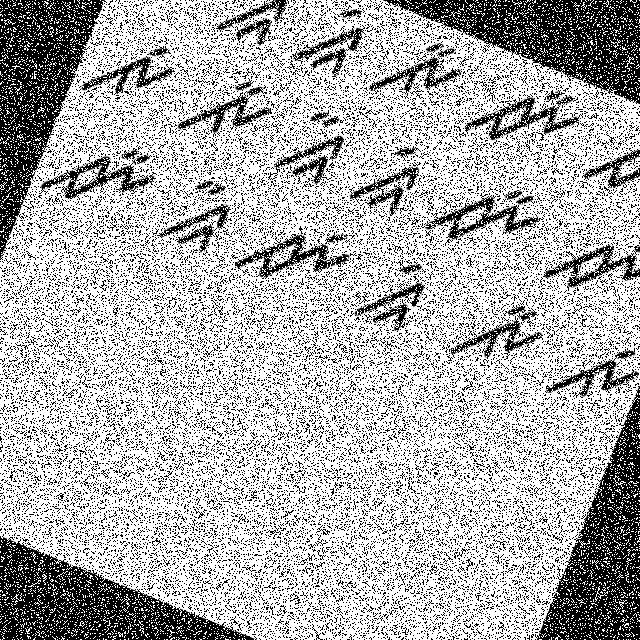an: (433, 271, 558, 390), (359, 15, 474, 126), (172, 58, 282, 160)
ang: (73, 15, 184, 124), (534, 315, 639, 425), (116, 0, 227, 25)
nggan: (266, 88, 366, 196), (153, 166, 244, 267), (206, 0, 306, 69)
nggang: (346, 243, 443, 349), (344, 129, 434, 224), (285, 0, 377, 89)
njan: (417, 150, 552, 273), (454, 59, 588, 182), (36, 116, 166, 236)
njang: (222, 190, 361, 320), (535, 200, 639, 323), (573, 103, 639, 228)
